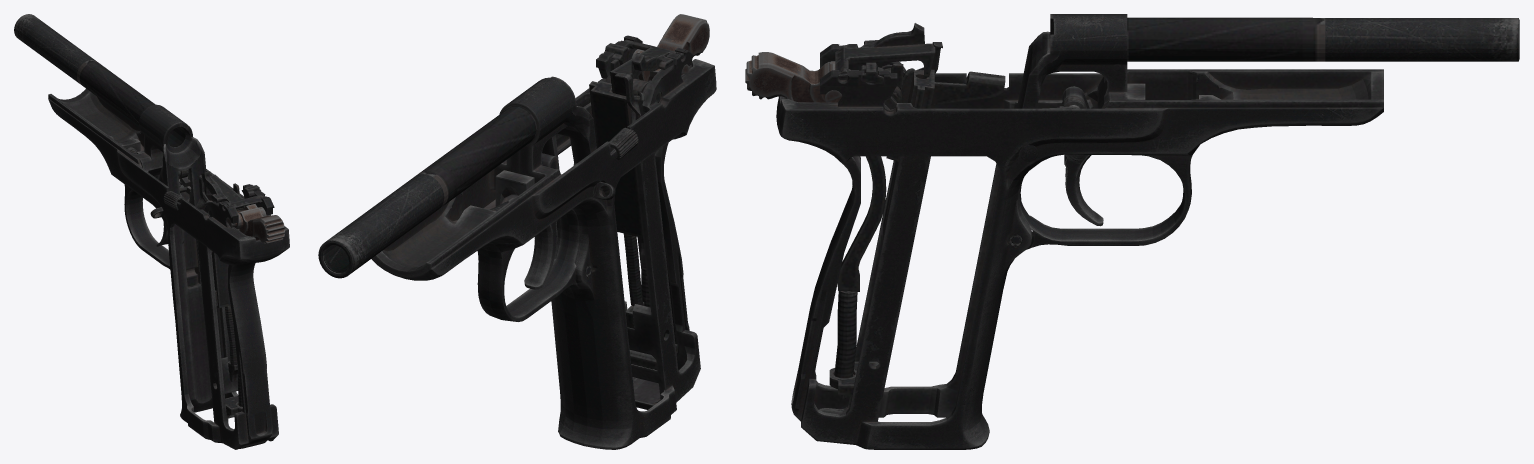
3 views of the same model, side by side, from view 1: azimuth 30°, elevation 25°; view 2: azimuth 150°, elevation 25°; view 3: azimuth 270°, elevation 25° (orthographic). The views are drawn at different scales.
Parts seen in each view (by area): view 1: TW_5a17f98cfcdbcb0980087290_PZ_Import; view 2: TW_5a17f98cfcdbcb0980087290_PZ_Import; view 3: TW_5a17f98cfcdbcb0980087290_PZ_Import.
Boxes of the visible parts, x1,y1,x2,y2 form: TW_5a17f98cfcdbcb0980087290_PZ_Import: (14,14,289,449); TW_5a17f98cfcdbcb0980087290_PZ_Import: (318,14,716,449); TW_5a17f98cfcdbcb0980087290_PZ_Import: (745,14,1519,449).
Size of the model in its own units: 0.0182 by 0.1353 by 0.0808.
1 material, 1 textured.
